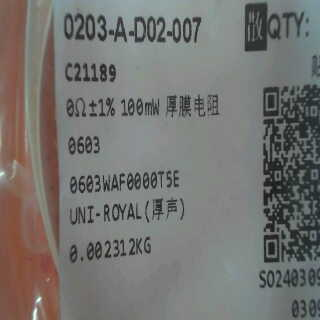0R: (60, 97, 116, 156)
